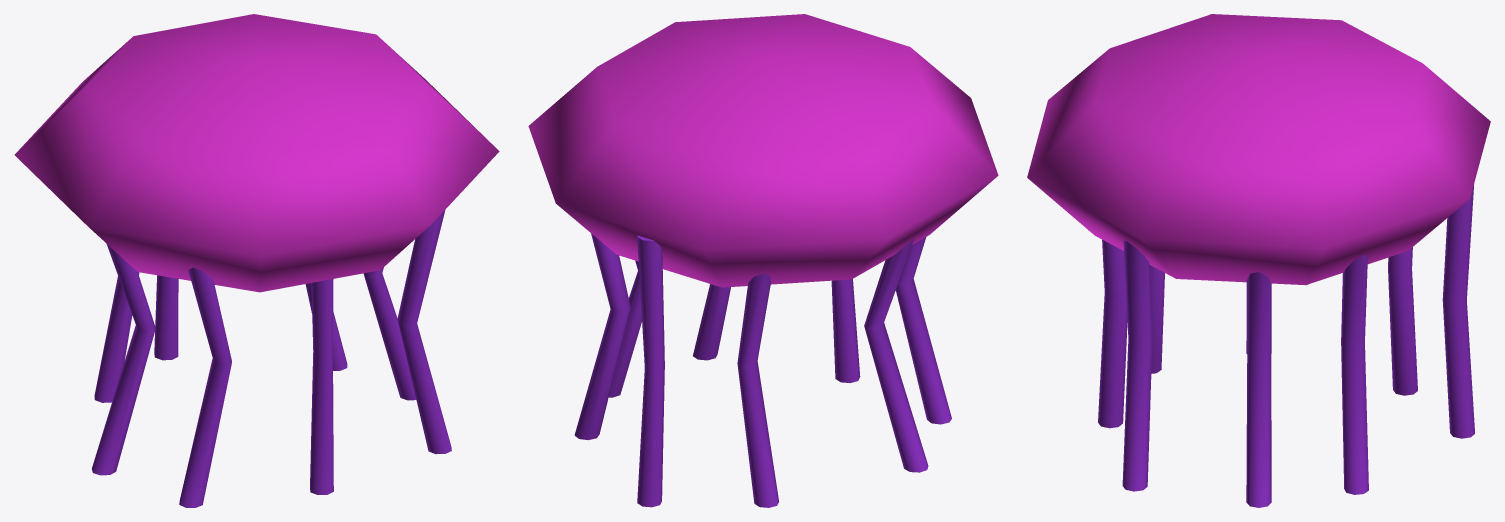
The model's file is 3D_JellyFish.FBX.
The picture shows the model from 3 angles, left to right: view 1: azimuth 30°, elevation 25°; view 2: azimuth 150°, elevation 25°; view 3: azimuth 270°, elevation 25°; orthographic projection.
Parts seen in each view (by area): view 1: 3D_Jellyfish; view 2: 3D_Jellyfish; view 3: 3D_Jellyfish.
Boxes of the visible parts, x1,y1,x2,y2 form: 3D_Jellyfish: (14, 14, 499, 507); 3D_Jellyfish: (528, 14, 998, 507); 3D_Jellyfish: (1027, 14, 1490, 507).
Bounding box in the file's own units: 63.71 × 56.37 × 63.71.
